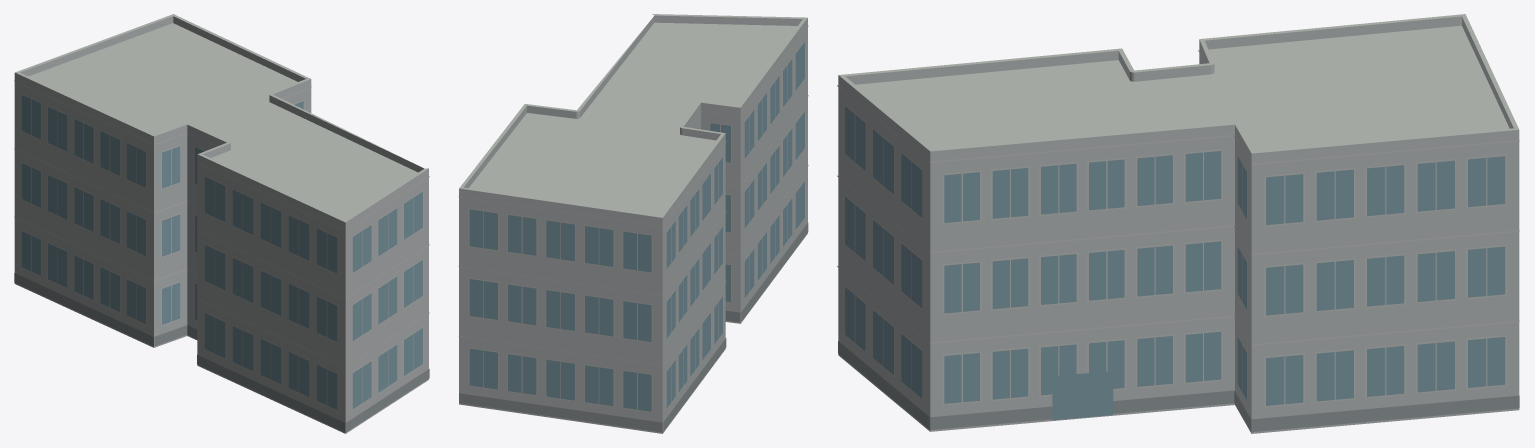
File: public-d5679c0c-80d8-420e-94f7-f18a7f00cd2e.glb
3 views of the same model, side by side, from view 1: azimuth 30°, elevation 25°; view 2: azimuth 150°, elevation 25°; view 3: azimuth 270°, elevation 25° (orthographic). The views are drawn at different scales.
Visible parts, largest first — view 1: public-d5679c0c-80d8-420e-94f7-f18a7f00cd2e; view 2: public-d5679c0c-80d8-420e-94f7-f18a7f00cd2e; view 3: public-d5679c0c-80d8-420e-94f7-f18a7f00cd2e.
Boxes of the visible parts, box(x1,y1,x2,y2) form: public-d5679c0c-80d8-420e-94f7-f18a7f00cd2e: box(14, 14, 429, 433); public-d5679c0c-80d8-420e-94f7-f18a7f00cd2e: box(458, 14, 808, 433); public-d5679c0c-80d8-420e-94f7-f18a7f00cd2e: box(837, 14, 1519, 433).
Size of the model in its own units: 21.17 by 19.7 by 43.49.
